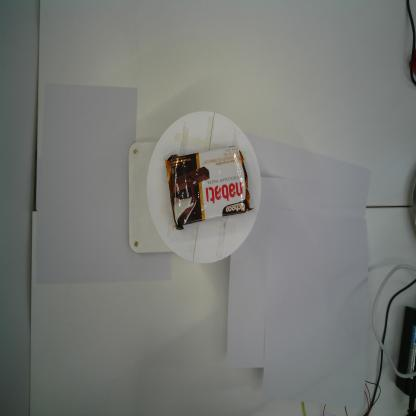Dessert: (162, 144, 255, 231)
